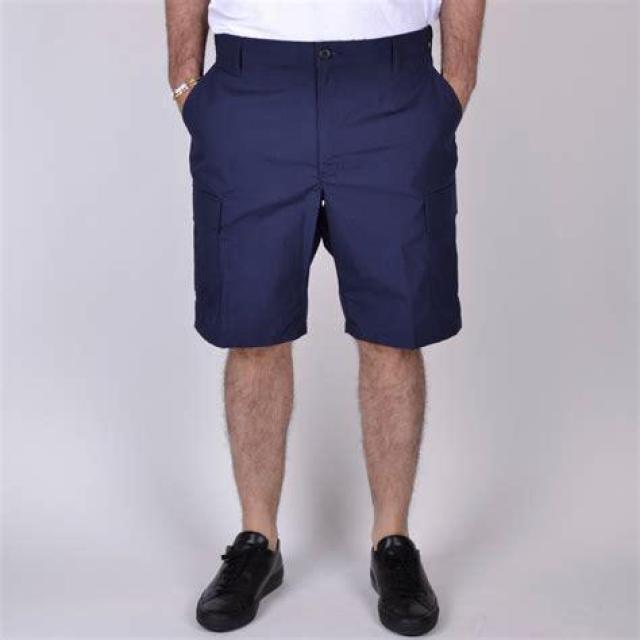short: (180, 31, 465, 347)
